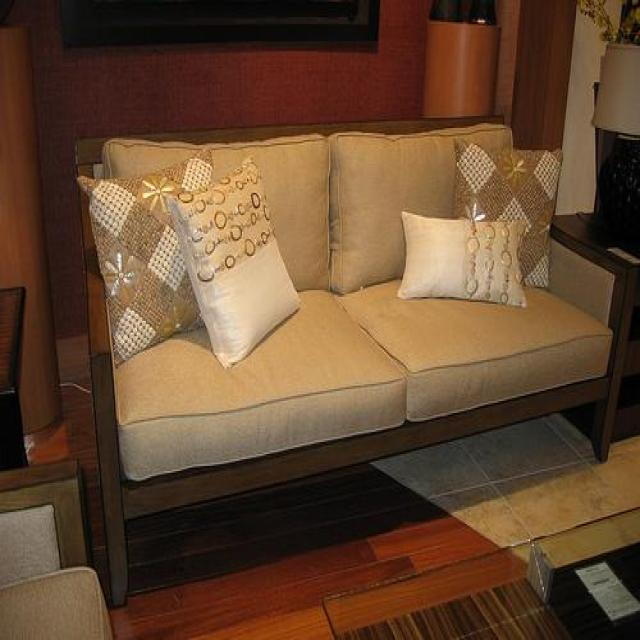sofa: (74, 121, 640, 610)
